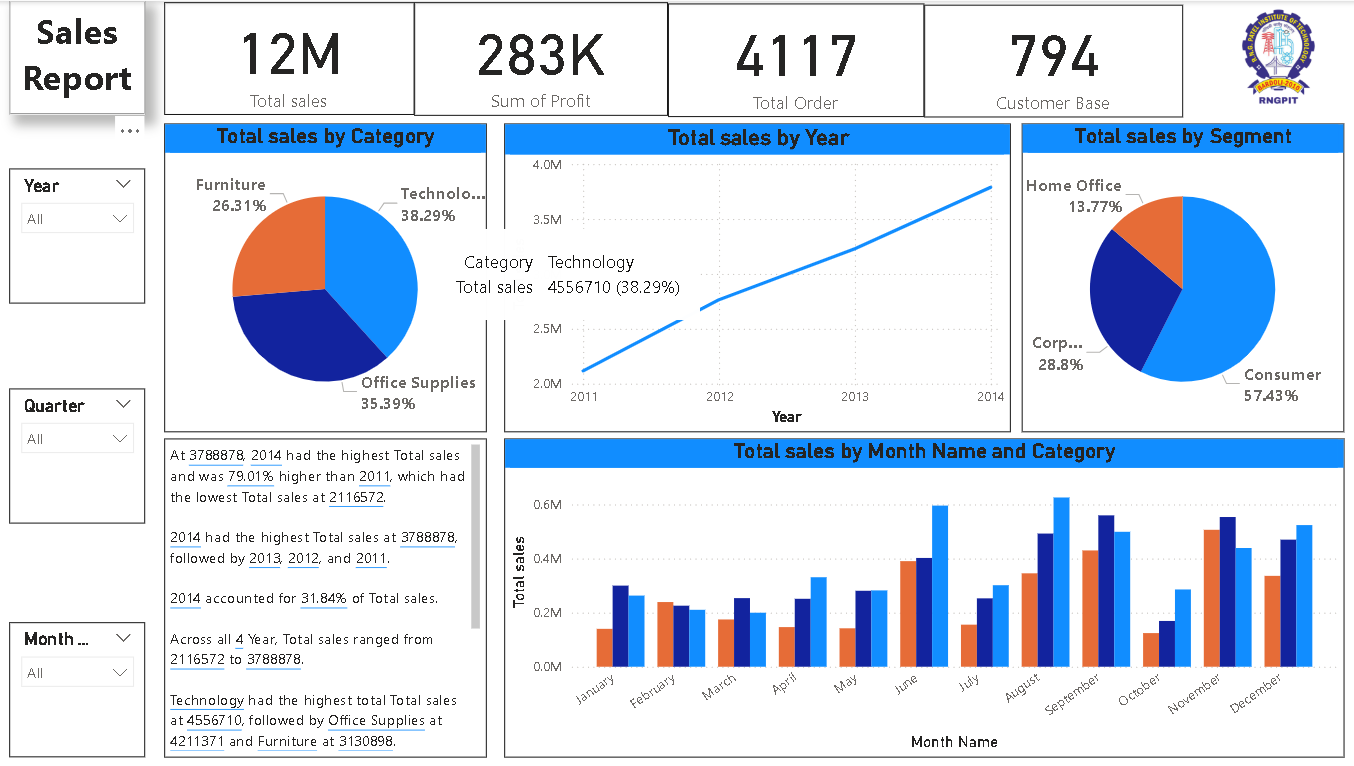

What the dashboard file says about the page in this screenshot:
{"tool":"powerbi","page":{"name":"Sales Analysis","canvas":[1280,720],"ordinal":1},"visuals":[{"type":"textbox","box":[10.5,0,126.7,105.8],"z":0},{"type":"card","fields":{"Values":["Sales.Total sales"]},"box":[154.7,1.2,232.6,104.7],"z":1000},{"type":"card","fields":{"Values":["Sum(Sales.Profit)"]},"box":[387.2,1.2,236,105.8],"z":2000},{"type":"card","fields":{"Values":["Count(Sales.OrderID)"]},"box":[623.3,2.3,238.4,105.8],"z":3000},{"type":"card","fields":{"Values":["CountNonNull(Customers.ID)"]},"box":[861.6,3.5,240.7,104.7],"z":4000},{"type":"pieChart","fields":{"Y":["Sales.Total sales"],"Category":["Products.Category"]},"box":[154.7,114,300,287.2],"z":5000},{"type":"clusteredColumnChart","fields":{"Category":["DateTable.Month Name"],"Y":["Sales.Total sales"],"Series":["Products.Category"]},"box":[470.9,407,781.4,296.5],"z":6000},{"type":"pieChart","fields":{"Category":["Customers.Segment"],"Y":["Sales.Total sales"]},"box":[952.3,114,300,287.2],"z":7000},{"type":"image","box":[1102.3,0,177.9,105.8],"z":8000},{"type":"textbox","box":[154.7,407,300,296.5],"z":9000},{"type":"slicer","fields":{"Values":["DateTable.Year"]},"box":[10.5,155.8,126.7,125.6],"z":10000},{"type":"slicer","fields":{"Values":["DateTable.Quarter"]},"box":[10.5,360.5,126.7,125.6],"z":11000},{"type":"slicer","fields":{"Values":["DateTable.Month Name"]},"box":[10.5,577.9,126.7,125.6],"z":12000},{"type":"lineChart","fields":{"Category":["DateTable.Year"],"Y":["Sales.Total sales"]},"box":[470.9,114,470.9,287.2],"z":13000}]}

Visuals, with their boxes in screenshot pixels (x1, y1, x2, y2), scaled from the page's 1280x720 canvas onto the 1354x766 screenshot:
textbox: BBox(11, 0, 145, 113)
card - Sales.Total sales: BBox(164, 1, 410, 113)
card - Sum(Sales.Profit): BBox(410, 1, 659, 114)
card - Count(Sales.OrderID): BBox(659, 2, 912, 115)
card - CountNonNull(Customers.ID): BBox(911, 4, 1166, 115)
pieChart - Sales.Total sales x Products.Category: BBox(164, 121, 481, 427)
clusteredColumnChart - DateTable.Month Name x Sales.Total sales: BBox(498, 433, 1325, 748)
pieChart - Customers.Segment x Sales.Total sales: BBox(1007, 121, 1325, 427)
image: BBox(1166, 0, 1353, 113)
textbox: BBox(164, 433, 481, 748)
slicer - DateTable.Year: BBox(11, 166, 145, 299)
slicer - DateTable.Quarter: BBox(11, 384, 145, 517)
slicer - DateTable.Month Name: BBox(11, 615, 145, 748)
lineChart - DateTable.Year x Sales.Total sales: BBox(498, 121, 996, 427)
